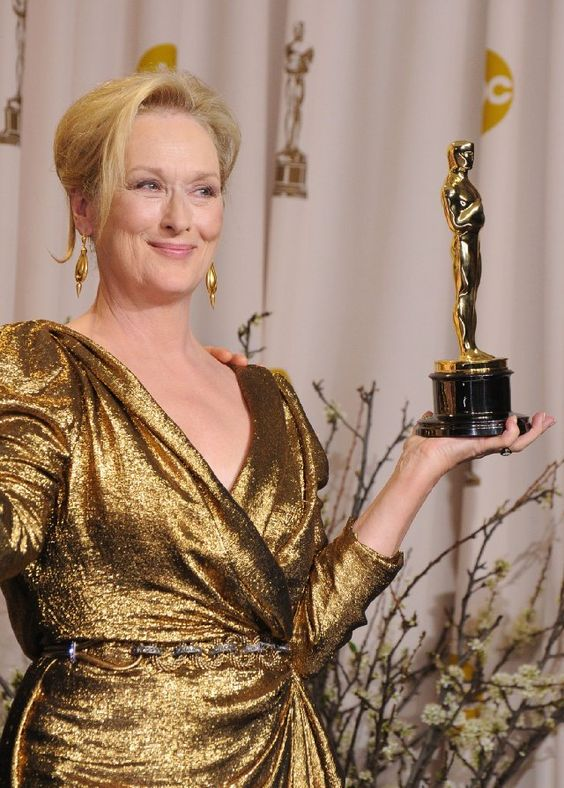hand: (410, 416, 545, 469)
